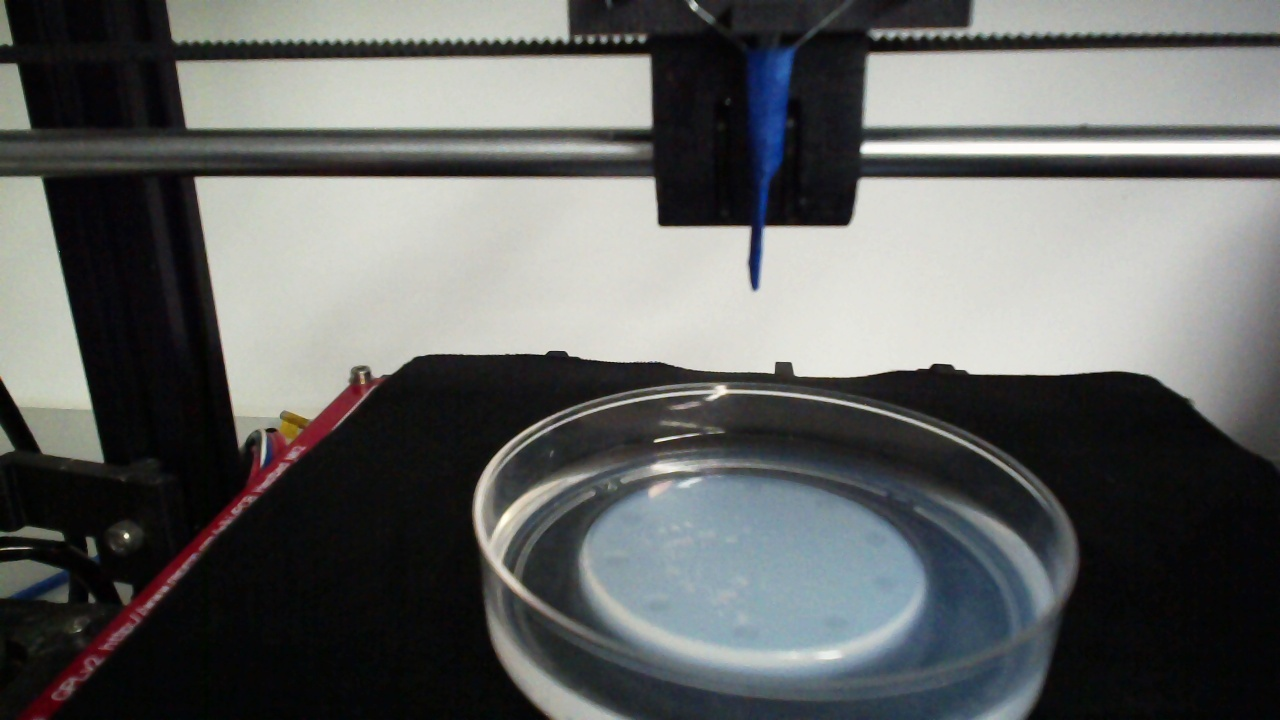groove: (646, 594, 676, 614), (617, 509, 648, 528), (603, 552, 633, 571), (732, 623, 761, 641), (872, 574, 898, 594), (824, 614, 850, 631), (814, 496, 841, 512), (863, 532, 888, 549), (741, 480, 766, 496)
needle: (749, 51, 794, 289)
